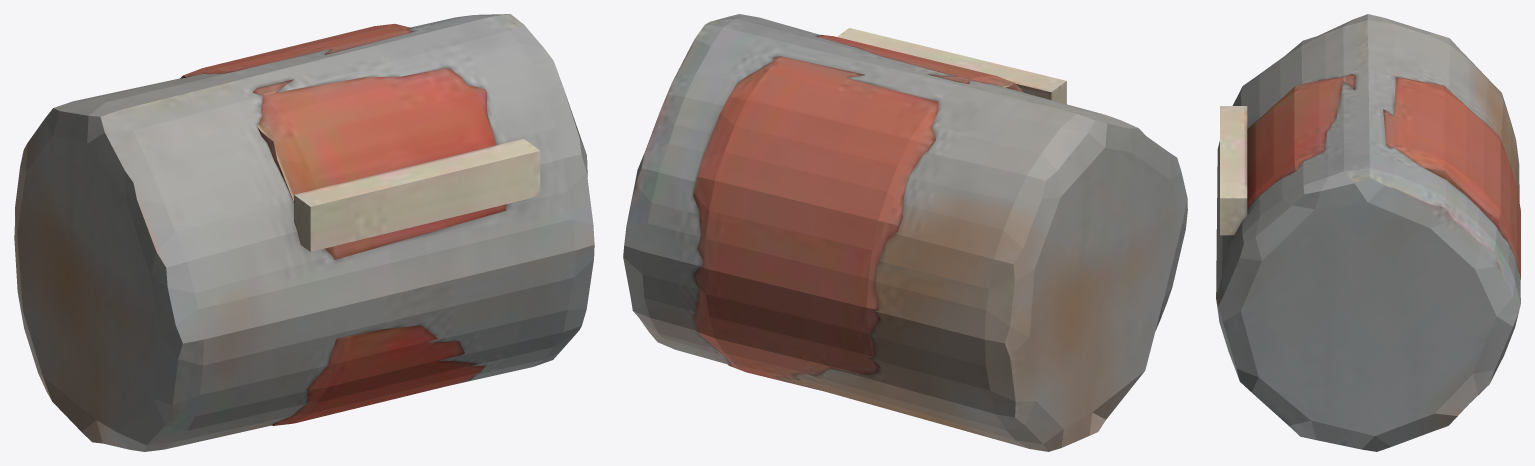
The model's file is scrap_empty_can.glb.
The picture shows the model from 3 angles, left to right: view 1: azimuth 30°, elevation 25°; view 2: azimuth 150°, elevation 25°; view 3: azimuth 270°, elevation 25°; orthographic projection. The views are drawn at different scales.
Visible parts, largest first — view 1: EmptyCan_Mesh; view 2: EmptyCan_Mesh; view 3: EmptyCan_Mesh.
Boxes of the visible parts, <box> form: EmptyCan_Mesh: <box>14,14,594,451</box>; EmptyCan_Mesh: <box>623,14,1187,451</box>; EmptyCan_Mesh: <box>1216,14,1520,451</box>.
Bounding box in the file's own units: 0.308 × 0.2246 × 0.2235.
1 material, 1 textured.
